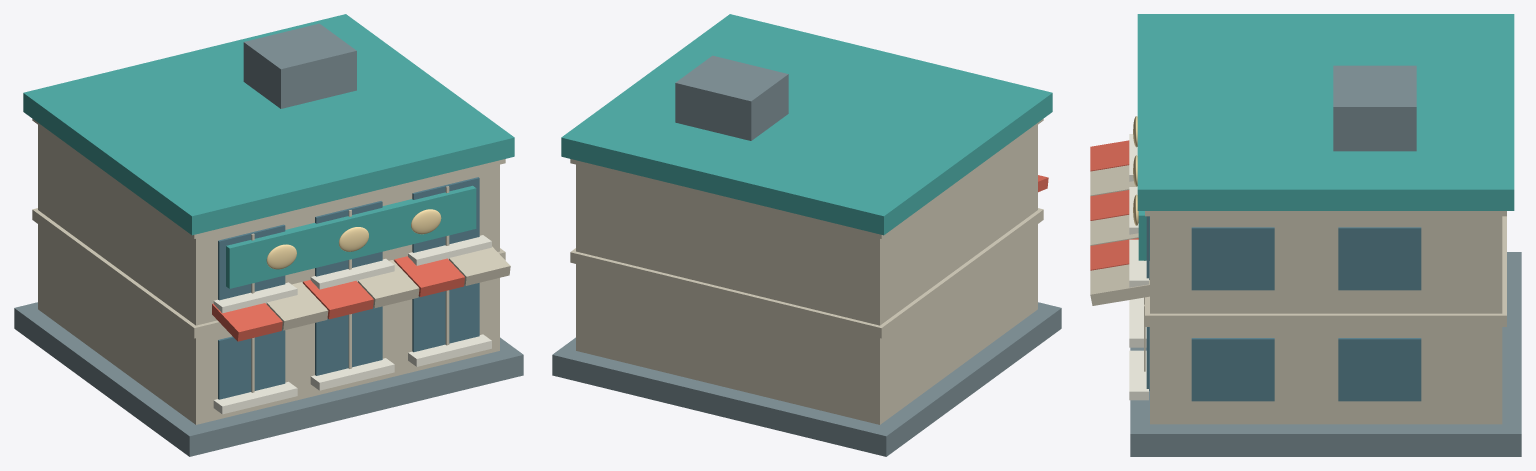
File: shop.glb
3 views of the same model, side by side, from view 1: azimuth 30°, elevation 25°; view 2: azimuth 150°, elevation 25°; view 3: azimuth 270°, elevation 25° (orthographic). The views are drawn at different scales.
Parts seen in each view (by area): view 1: Roof, Storey0, Storey1, Foundation, Shop sign, Rooftop unit, Window, Window.001, Window.002, Trim0, Trim1, Awning (+17 smaller); view 2: Roof, Storey0, Storey1, Foundation, Rooftop unit, Trim0, Trim1; view 3: Roof, Storey1, Storey0, Foundation, Rooftop unit, Trim0, SideWindow, SideWindow.001, SideWindow.002, SideWindow.003, Trim1, Awning.005 (+9 smaller).
Boxes of the visible parts, x1=… form: Roof: x1=23, y1=14, x2=514, y2=235; Storey0: x1=38, y1=224, x2=499, y2=424; Storey1: x1=38, y1=125, x2=499, y2=325; Foundation: x1=14, y1=302, x2=523, y2=456; Shop sign: x1=226, y1=185, x2=476, y2=288; Rooftop unit: x1=243, y1=23, x2=356, y2=108; Window: x1=218, y1=329, x2=285, y2=399; Window.001: x1=315, y1=306, x2=382, y2=375; Window.002: x1=412, y1=283, x2=479, y2=352; Trim0: x1=32, y1=208, x2=505, y2=338; Trim1: x1=32, y1=119, x2=505, y2=238; Awning: x1=212, y1=303, x2=282, y2=341; Roof: x1=561, y1=14, x2=1052, y2=235; Storey0: x1=576, y1=224, x2=1037, y2=424; Storey1: x1=576, y1=125, x2=1037, y2=325; Foundation: x1=552, y1=302, x2=1061, y2=456; Rooftop unit: x1=675, y1=55, x2=788, y2=140; Trim0: x1=570, y1=208, x2=1043, y2=338; Trim1: x1=570, y1=119, x2=1043, y2=238; Roof: x1=1137, y1=14, x2=1514, y2=210; Storey1: x1=1150, y1=216, x2=1502, y2=313; Storey0: x1=1150, y1=327, x2=1502, y2=424; Foundation: x1=1130, y1=252, x2=1521, y2=456; Rooftop unit: x1=1333, y1=65, x2=1416, y2=151; Trim0: x1=1145, y1=216, x2=1506, y2=326; SideWindow: x1=1191, y1=338, x2=1274, y2=401; SideWindow.001: x1=1338, y1=338, x2=1421, y2=401; SideWindow.002: x1=1191, y1=227, x2=1274, y2=290; SideWindow.003: x1=1338, y1=227, x2=1421, y2=290; Trim1: x1=1145, y1=211, x2=1506, y2=216; Awning.005: x1=1090, y1=261, x2=1149, y2=305.
Size of the model in its own units: 4.4 by 3.48 by 4.41.
